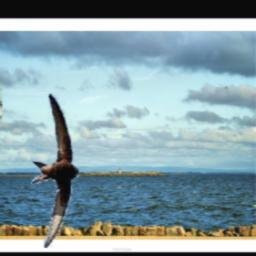Cuckoo: (0, 62, 2, 127)
Swallow: (31, 94, 80, 249)
